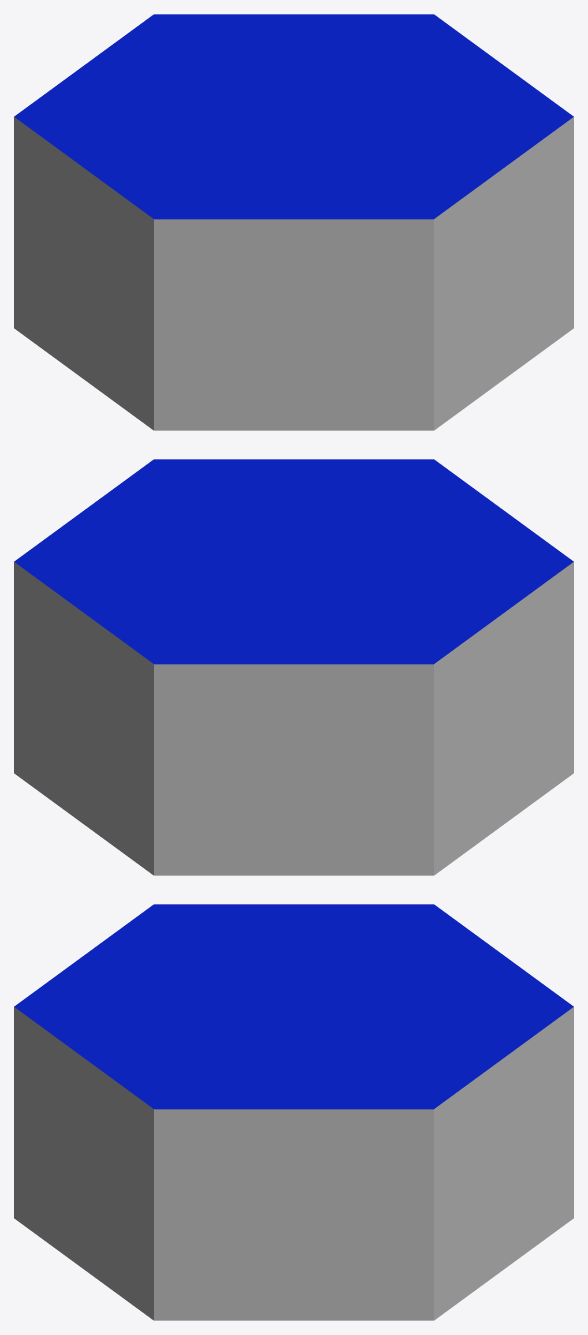
The model's file is SEGUNDACENA.fbx.
3 renders of one model, top to bottom at view 1: azimuth 30°, elevation 25°; view 2: azimuth 150°, elevation 25°; view 3: azimuth 270°, elevation 25°, orthographic.
Parts seen in each view (by area): view 1: Cylinder; view 2: Cylinder; view 3: Cylinder.
Boxes of the visible parts, x1,y1,x2,y2 form: Cylinder: (14,14,573,430); Cylinder: (14,459,573,875); Cylinder: (14,904,573,1320).
Size of the model in its own units: 632 by 304 by 730.
